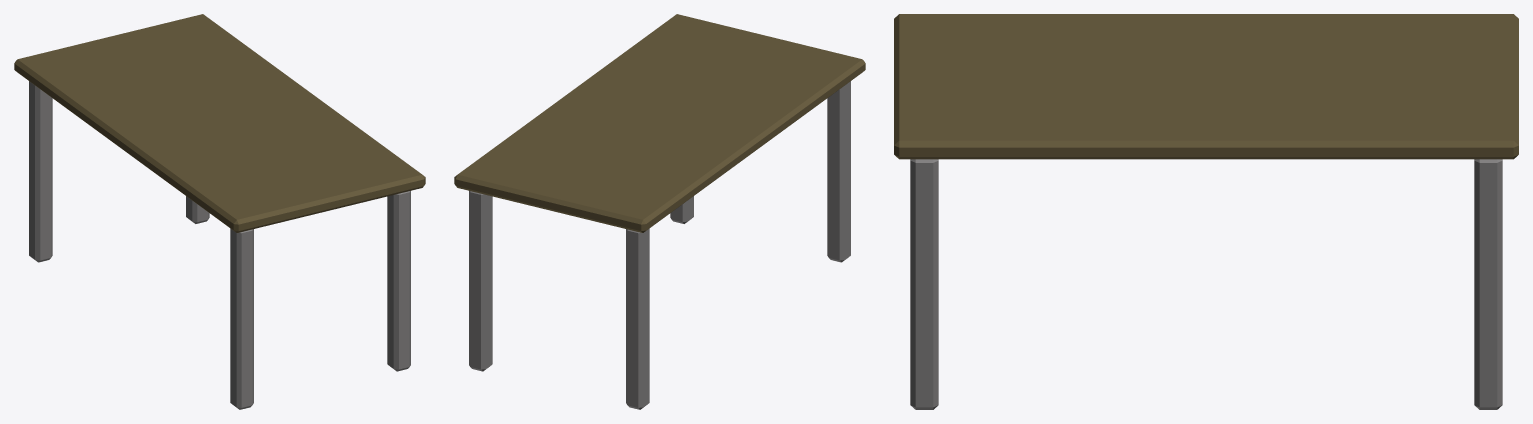
Rendered from SM_Table.fbx.
3 renders of one model, left to right at view 1: azimuth 30°, elevation 25°; view 2: azimuth 150°, elevation 25°; view 3: azimuth 270°, elevation 25°, orthographic. The views are drawn at different scales.
Visible parts, largest first — view 1: Cube.020; view 2: Cube.020; view 3: Cube.020.
Boxes of the visible parts, x1=… form: Cube.020: x1=14, y1=14, x2=425, y2=409; Cube.020: x1=454, y1=14, x2=865, y2=409; Cube.020: x1=894, y1=14, x2=1518, y2=409.
Size of the model in its own units: 172 by 85.57 by 83.71.
